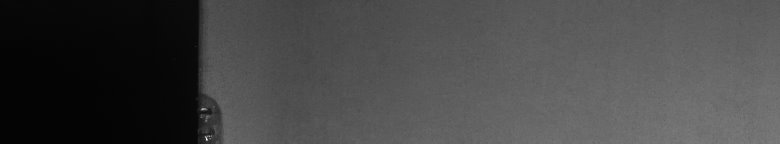hb: (208, 88, 229, 136)
